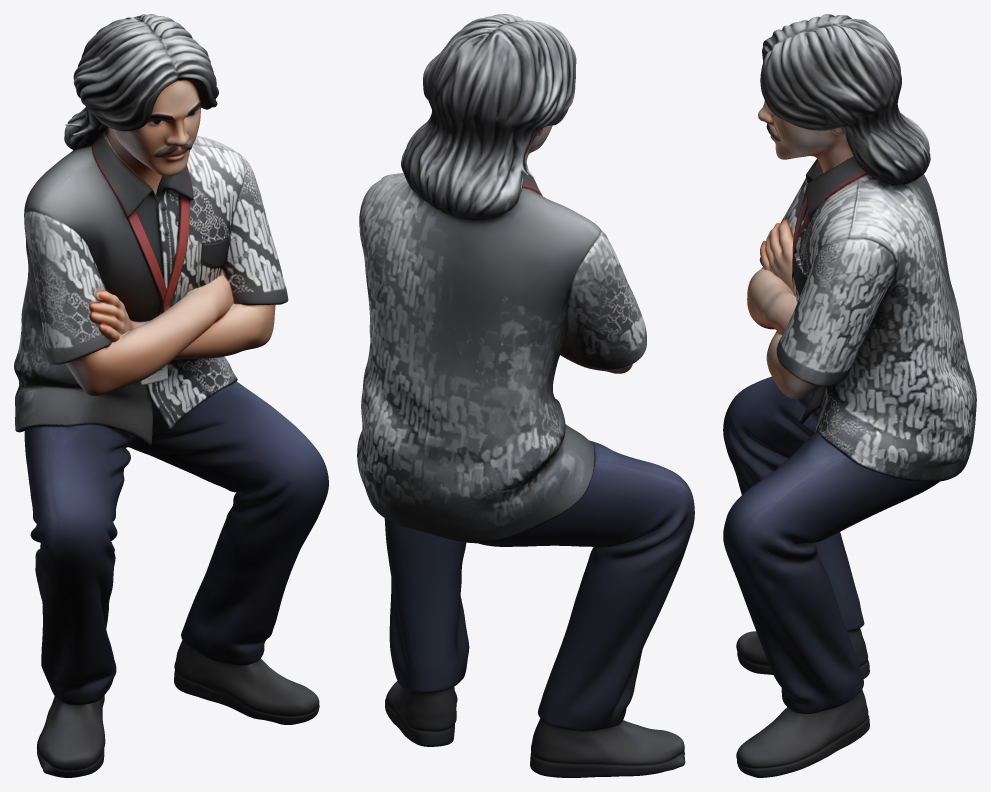
The model's file is Syukur3D.fbx.
3 renders of one model, left to right at view 1: azimuth 30°, elevation 25°; view 2: azimuth 150°, elevation 25°; view 3: azimuth 270°, elevation 25°, orthographic. The views are drawn at different scales.
Parts seen in each view (by area): view 1: tripo_node_ee4dd529; view 2: tripo_node_ee4dd529; view 3: tripo_node_ee4dd529.
Boxes of the visible parts, box(x1,y1,x2,y2) form: tripo_node_ee4dd529: box(14, 14, 328, 777); tripo_node_ee4dd529: box(357, 14, 694, 777); tripo_node_ee4dd529: box(723, 14, 976, 777).
Size of the model in its own units: 0.4258 by 1 by 0.3326.
